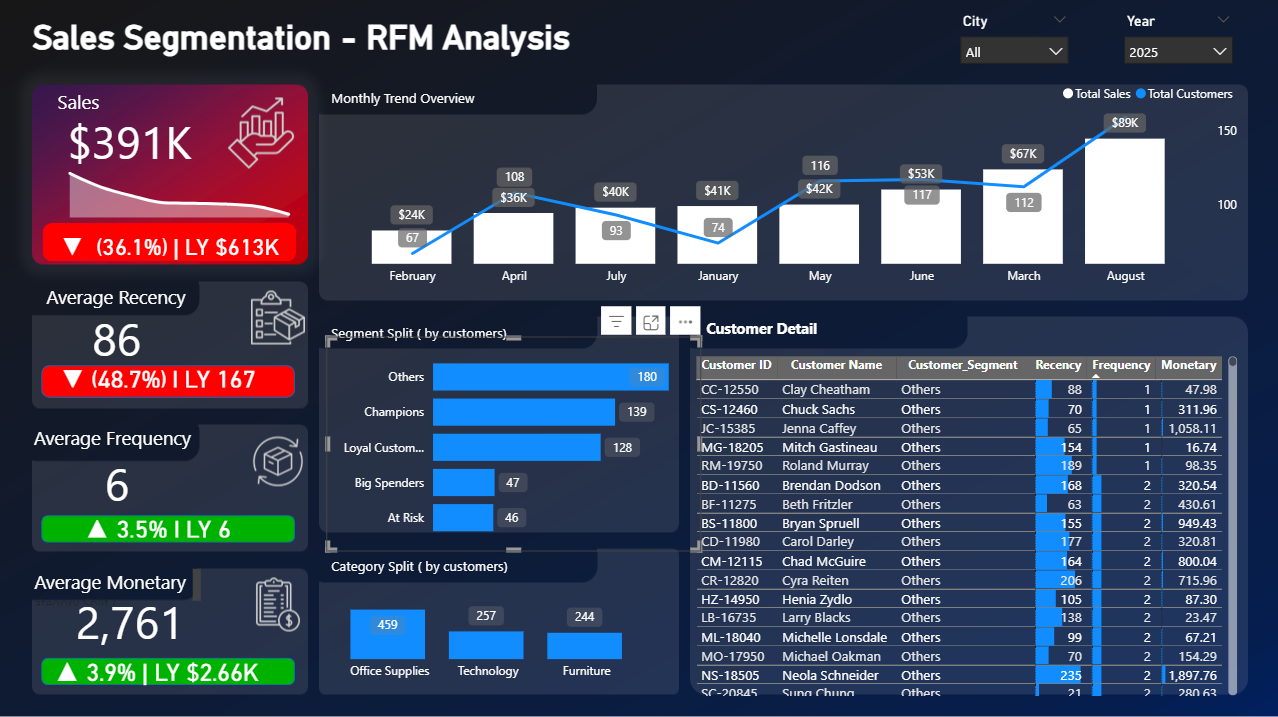

The dashboard page shown, as its layout file describes it:
{"tool":"powerbi","page":{"name":"Page 1","canvas":[1280,720],"ordinal":0},"visuals":[{"type":"shape","box":[41.2,366.2,253.8,32.5],"z":0},{"type":"textbox","box":[27.4,13.7,557.1,61.7],"z":1000},{"type":"card","fields":{"Values":["Table.AvgFrequency"]},"box":[28.8,450,177.5,66.2],"z":2000},{"type":"card","fields":{"Values":["Table.AvgRecency"]},"box":[48.8,305,136.2,66.2],"z":3000},{"type":"card","fields":{"Values":["Table.AvgMonetary"]},"box":[41.2,585,177.5,73.8],"z":4000},{"type":"card","fields":{"Values":["Table.Total Sales"]},"box":[28.8,108.4,201.7,65.9],"z":5000},{"type":"textbox","box":[52.1,85.1,65.9,46.7],"z":6000},{"type":"textbox","box":[41.2,279.9,177,46.7],"z":7000},{"type":"textbox","box":[28.8,421.3,177,46.7],"z":8000},{"type":"shape","box":[42.5,223.8,253.8,38.8],"z":9000},{"type":"textbox","box":[28.8,565.4,177,46.7],"z":10000},{"type":"card","fields":{"Values":["Table.YoY SalesVariance"]},"box":[48.8,223.8,242.5,47.5],"z":11000},{"type":"slicer","fields":{"Values":["DateTable.Year"]},"box":[1114.1,8.6,128.8,66.3],"z":12000},{"type":"card","fields":{"Values":["Table.YoY RecencyVar"]},"box":[52.5,366.2,210,27.5],"z":13000},{"type":"shape","box":[41.2,658.8,253.8,27.5],"z":14000},{"type":"card","fields":{"Values":["Table.YoY MonetaryVar"]},"box":[27.5,655,257.5,36.2],"z":15000},{"type":"shape","box":[41.2,516.2,253.8,27.5],"z":16000},{"type":"card","fields":{"Values":["Table.YoY FrequencyVar"]},"box":[52.5,516.2,210,27.5],"z":17000},{"type":"lineChart","fields":{"Category":["DateTable.Month Name"],"Y":["Table.Total Sales"]},"box":[52.8,153.4,254,69.9],"z":18000},{"type":"lineStackedColumnComboChart","fields":{"Category":["DateTable.Month Name"],"Y":["Table.Total Sales"],"Y2":["Table.Total Customers"]},"box":[326.2,75,916.2,220],"z":19000},{"type":"textbox","box":[326.2,85,275,46.2],"z":20000},{"type":"clusteredBarChart","fields":{"Category":["RFM_Calculation.Customer_Segment"],"Y":["CountNonNull(RFM_Calculation.Customer ID)"]},"box":[326.2,337.5,375,215],"z":21000},{"type":"textbox","box":[326.2,320,275,46.2],"z":22000},{"type":"clusteredColumnChart","fields":{"Category":["Superstore 2025.Category"],"Y":["Count(Superstore 2025.Customer ID)"]},"box":[306.8,575.5,364.4,115.3],"z":23000},{"type":"textbox","box":[326.2,552.5,275,46.2],"z":24000},{"type":"tableEx","fields":{"Values":["Superstore 2025.Customer ID","Superstore 2025.Customer Name","RFM_Calculation.Customer_Segment","RFM_Calculation.Recency","RFM_Calculation.Frequency","RFM_Calculation.Monetary"]},"box":[690,352.5,552.5,348.8],"z":25000},{"type":"slicer","fields":{"Values":["Superstore 2025.City"]},"box":[950,8.8,128.8,66.2],"z":26000},{"type":"textbox","box":[701.2,313.8,275,46.2],"z":27000}]}

Visuals, with their boxes in screenshot pixels (x1, y1, x2, y2), scaled from the page's 1280x720 canvas onto the 1278x717 screenshot:
shape: rect(41, 365, 295, 397)
textbox: rect(27, 14, 584, 75)
card - Table.AvgFrequency: rect(29, 448, 206, 514)
card - Table.AvgRecency: rect(49, 304, 185, 370)
card - Table.AvgMonetary: rect(41, 583, 218, 656)
card - Table.Total Sales: rect(29, 108, 230, 174)
textbox: rect(52, 85, 118, 131)
textbox: rect(41, 279, 218, 325)
textbox: rect(29, 420, 205, 466)
shape: rect(42, 223, 296, 262)
textbox: rect(29, 563, 205, 610)
card - Table.YoY SalesVariance: rect(49, 223, 291, 270)
slicer - DateTable.Year: rect(1112, 9, 1241, 75)
card - Table.YoY RecencyVar: rect(52, 365, 262, 392)
shape: rect(41, 656, 295, 683)
card - Table.YoY MonetaryVar: rect(27, 652, 285, 688)
shape: rect(41, 514, 295, 541)
card - Table.YoY FrequencyVar: rect(52, 514, 262, 541)
lineChart - DateTable.Month Name x Table.Total Sales: rect(53, 153, 306, 222)
lineStackedColumnComboChart - DateTable.Month Name x Table.Total Sales: rect(326, 75, 1240, 294)
textbox: rect(326, 85, 600, 131)
clusteredBarChart - RFM_Calculation.Customer_Segment x CountNonNull(RFM_Calculation.Customer ID): rect(326, 336, 700, 550)
textbox: rect(326, 319, 600, 365)
clusteredColumnChart - Superstore 2025.Category x Count(Superstore 2025.Customer ID): rect(306, 573, 670, 688)
textbox: rect(326, 550, 600, 596)
tableEx - Superstore 2025.Customer ID x Superstore 2025.Customer Name: rect(689, 351, 1241, 698)
slicer - Superstore 2025.City: rect(949, 9, 1077, 75)
textbox: rect(700, 312, 975, 358)
